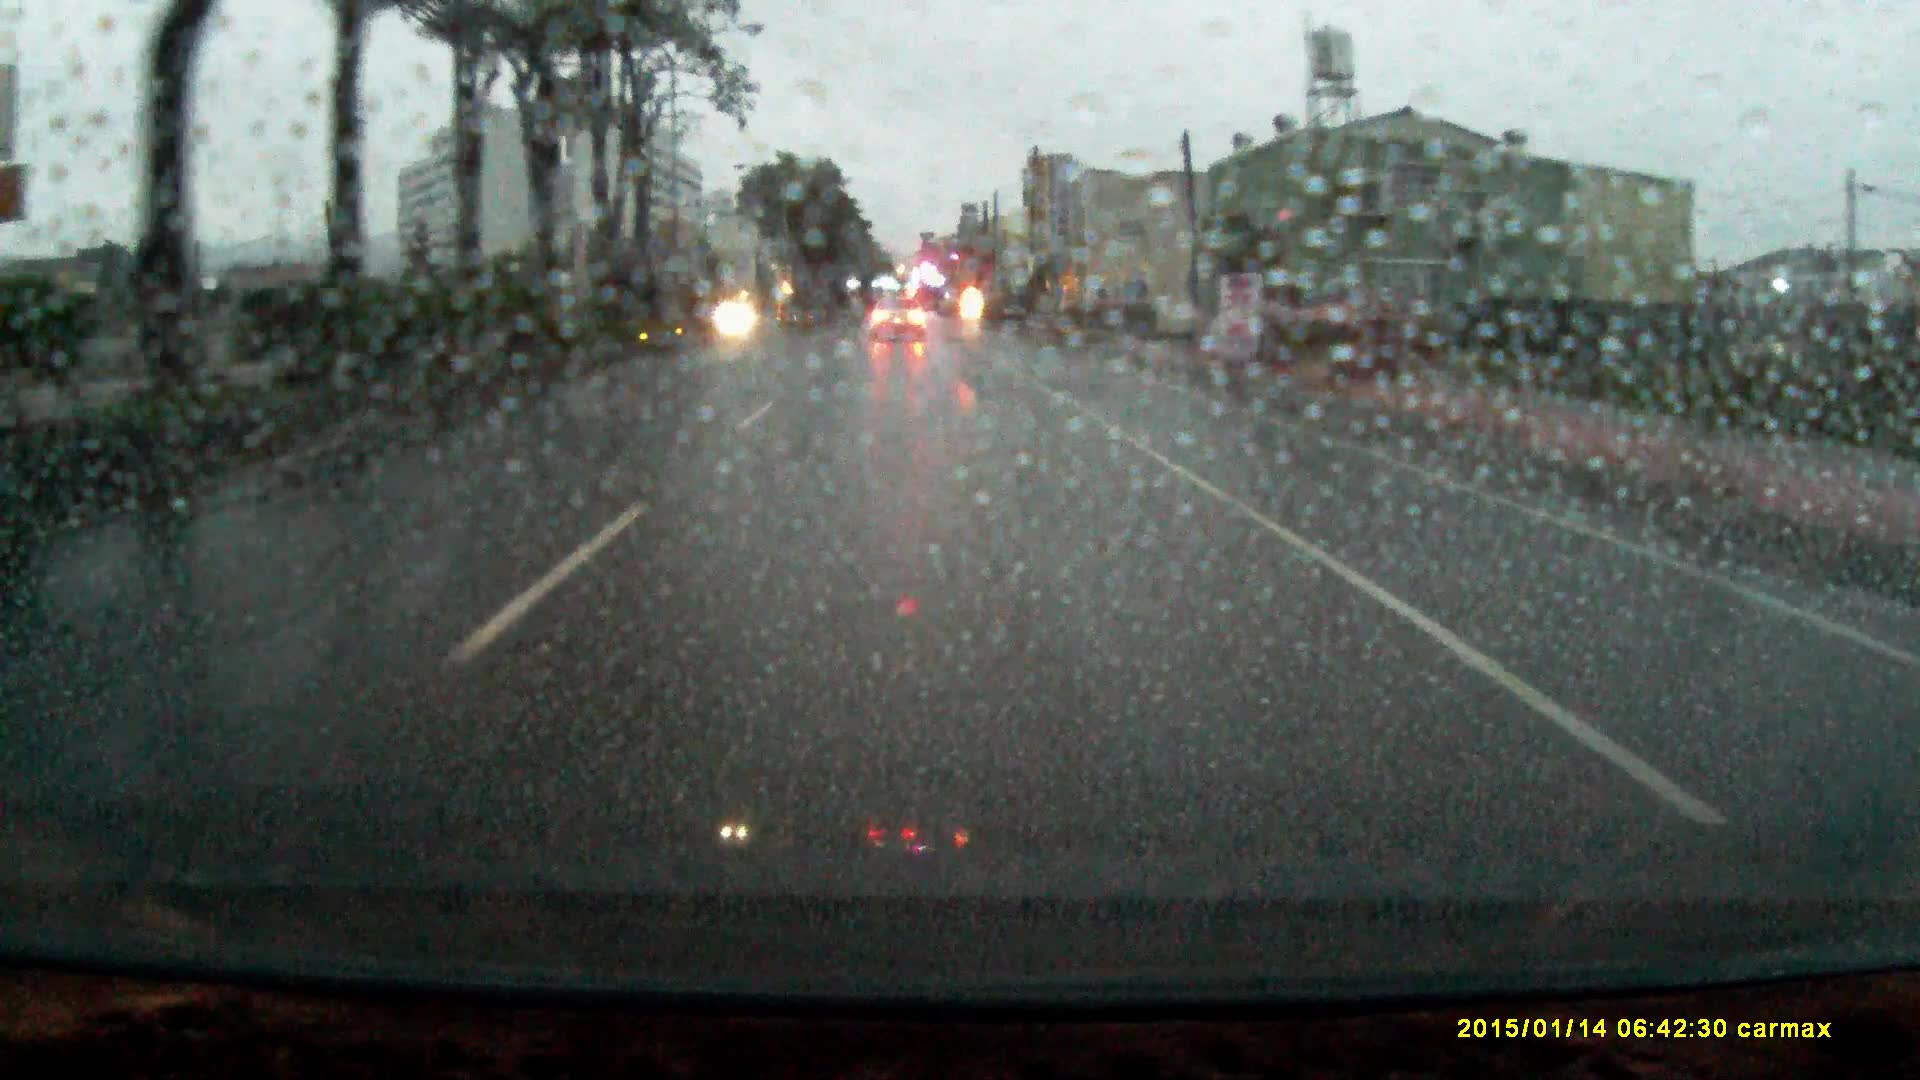vehicle: (870, 298, 927, 342)
